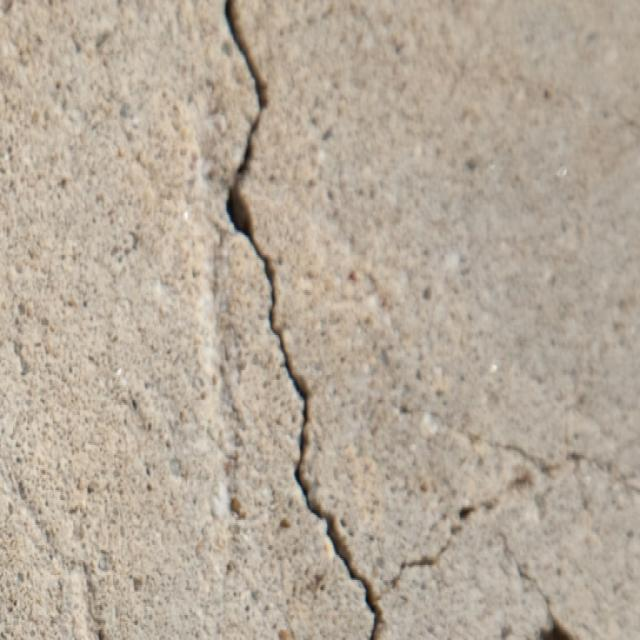Longitudinal: (217, 0, 391, 640)
Network: (412, 432, 640, 640)
